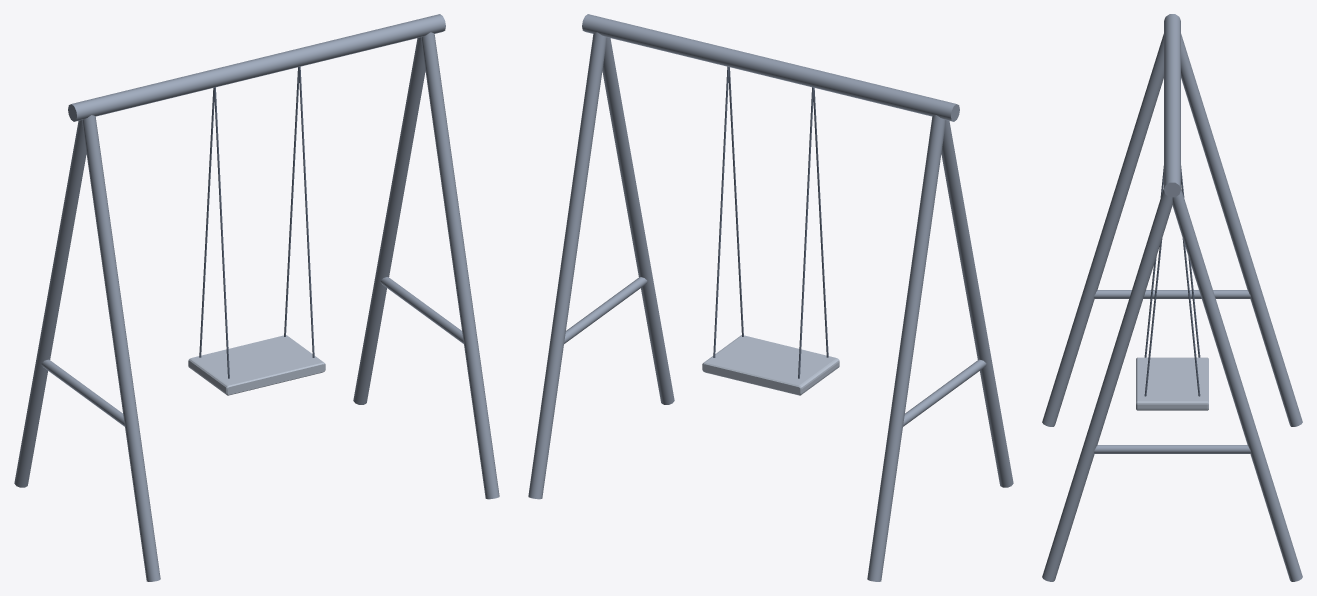
Rendered from kids-swing-lite.glb.
The picture shows the model from 3 angles, left to right: view 1: azimuth 30°, elevation 25°; view 2: azimuth 150°, elevation 25°; view 3: azimuth 270°, elevation 25°; orthographic projection. The views are drawn at different scales.
Visible parts, largest first — view 1: body, soft, dark; view 2: body, soft, dark; view 3: body, soft, dark.
Part boxes in pixels (x1,y1,x2,y2): body: [14, 14, 499, 581]; soft: [188, 335, 325, 395]; dark: [199, 66, 314, 378]; body: [528, 14, 1013, 581]; soft: [702, 335, 839, 395]; dark: [713, 66, 828, 378]; body: [1042, 14, 1302, 581]; soft: [1136, 357, 1208, 410]; dark: [1144, 166, 1200, 396].
Bounding box in the file's own units: 1.48 × 1.66 × 0.9681.
